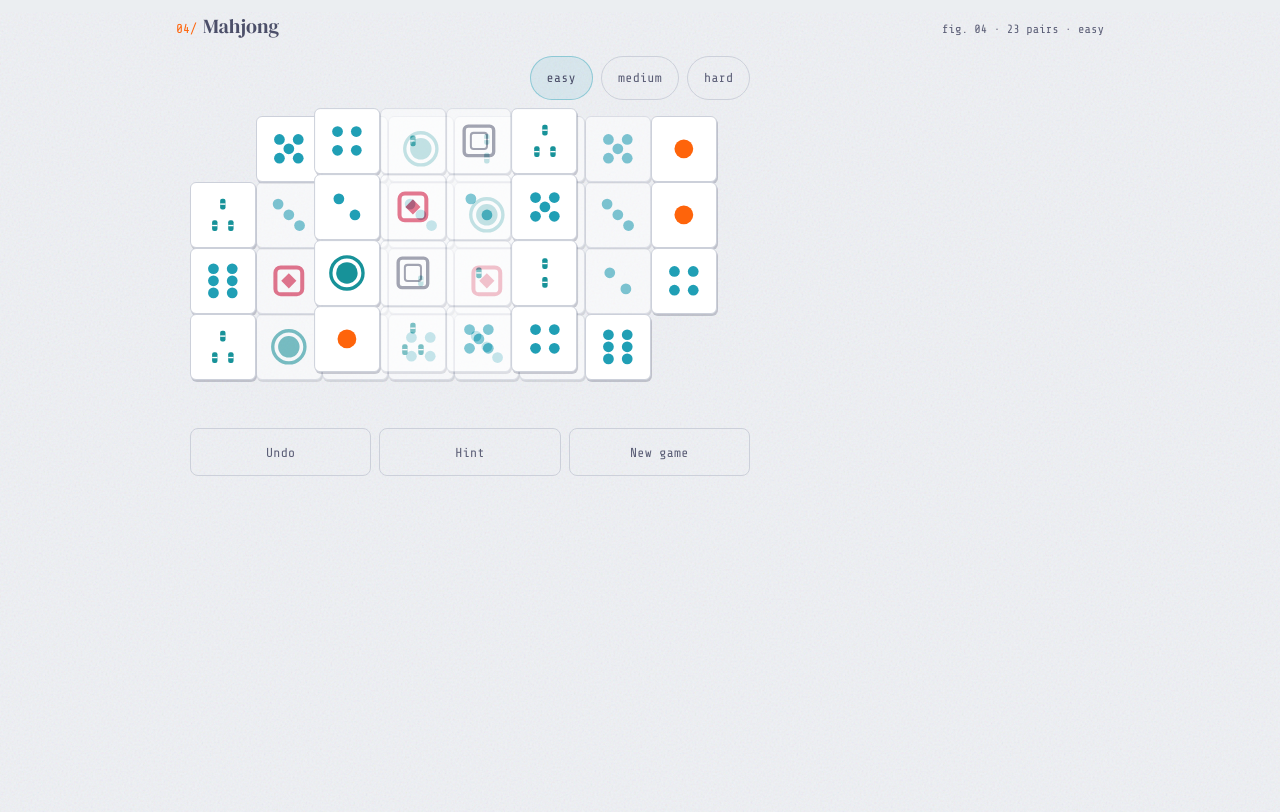
Test case: difficulty pills confirm before abandoning progress
Click the button with aria-label "Play hard": (719, 78) x1=687 y1=56 x2=750 y2=100
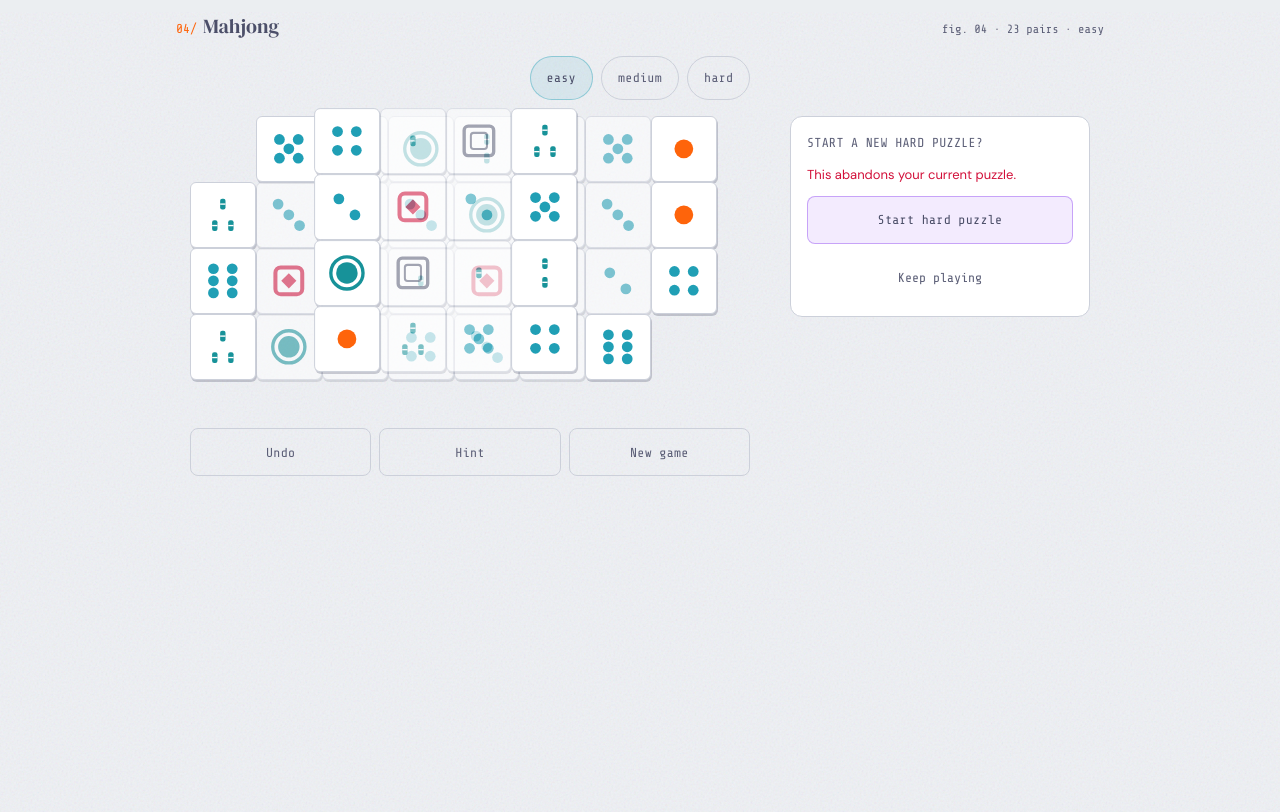
Expected: the text "Start a new hard puzzle?" is shown, x1=807 y1=135 x2=983 y2=150
Click the button "Keep playing": (940, 278) x1=807 y1=256 x2=1073 y2=300
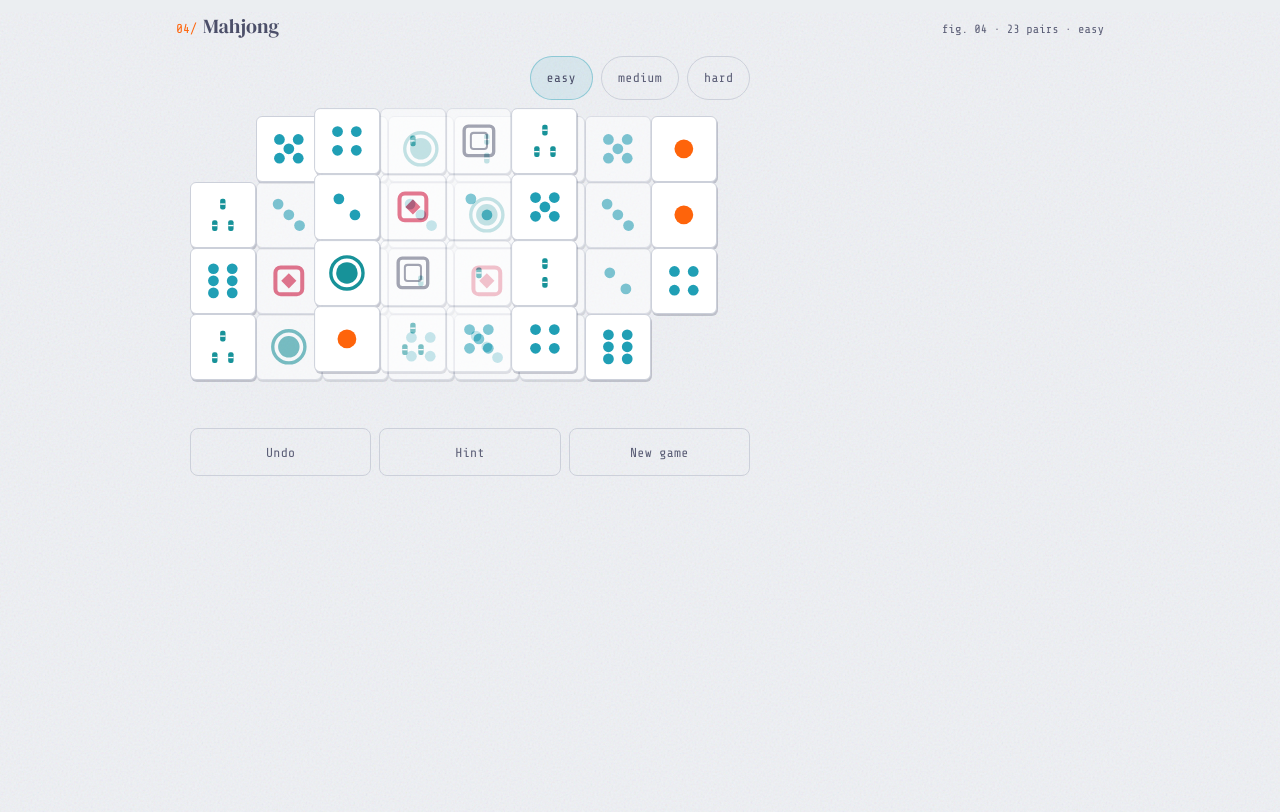
Expected: the text "Start a new hard puzzle?" is gone
